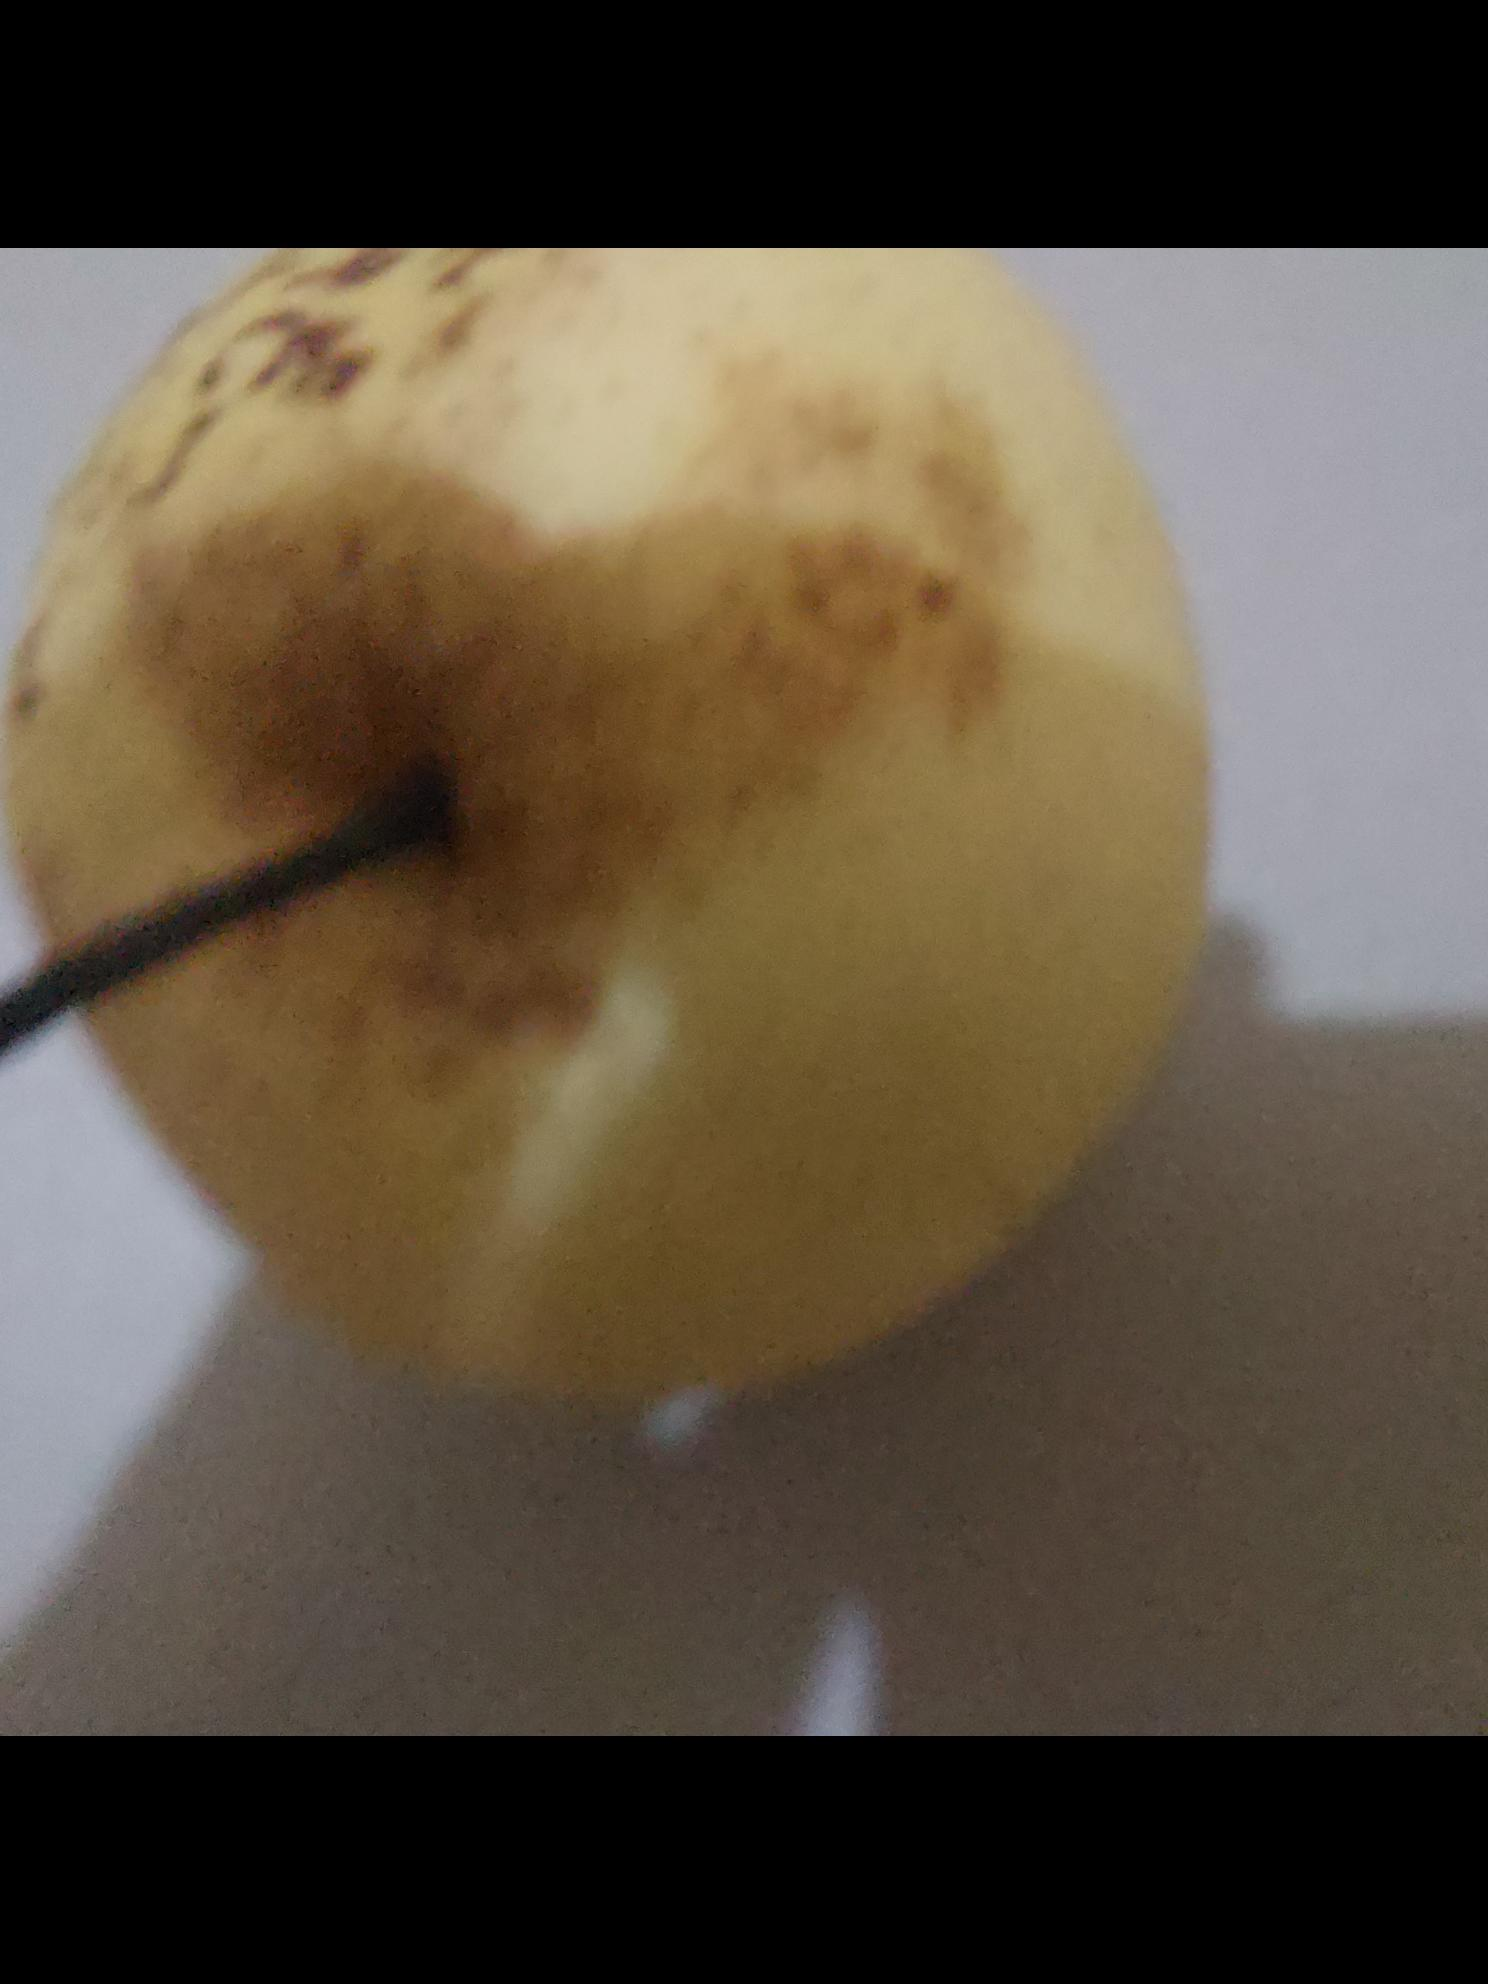Bad Pear: (0, 248, 1225, 1423)
